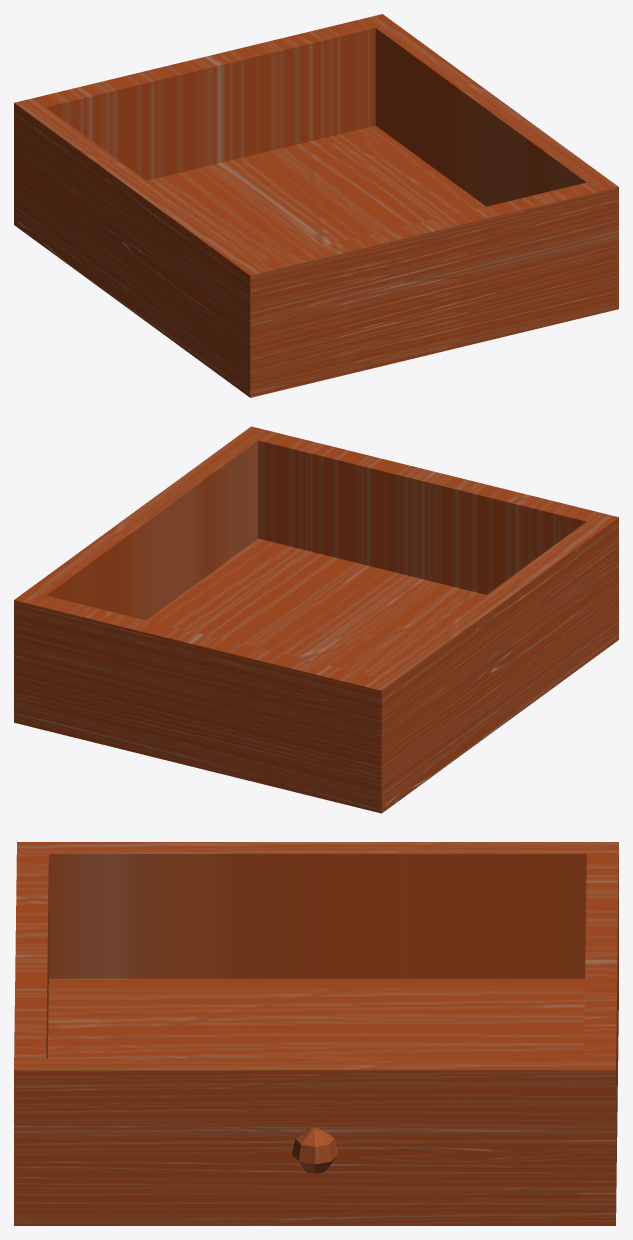
Rendered from gaveta3.fbx.
3 views of the same model, one above another, from view 1: azimuth 30°, elevation 25°; view 2: azimuth 150°, elevation 25°; view 3: azimuth 270°, elevation 25° (orthographic). The views are drawn at different scales.
Visible parts, largest first — view 1: Cube.001; view 2: Cube.001; view 3: Cube.001.
Part boxes in pixels (x1,y1,x2,y2): Cube.001: (14, 14, 618, 397); Cube.001: (14, 426, 618, 813); Cube.001: (14, 842, 618, 1225).
Bounding box in the file's own units: 50.39 × 15.14 × 53.36.
Materials: 1 (1 with a texture image).
